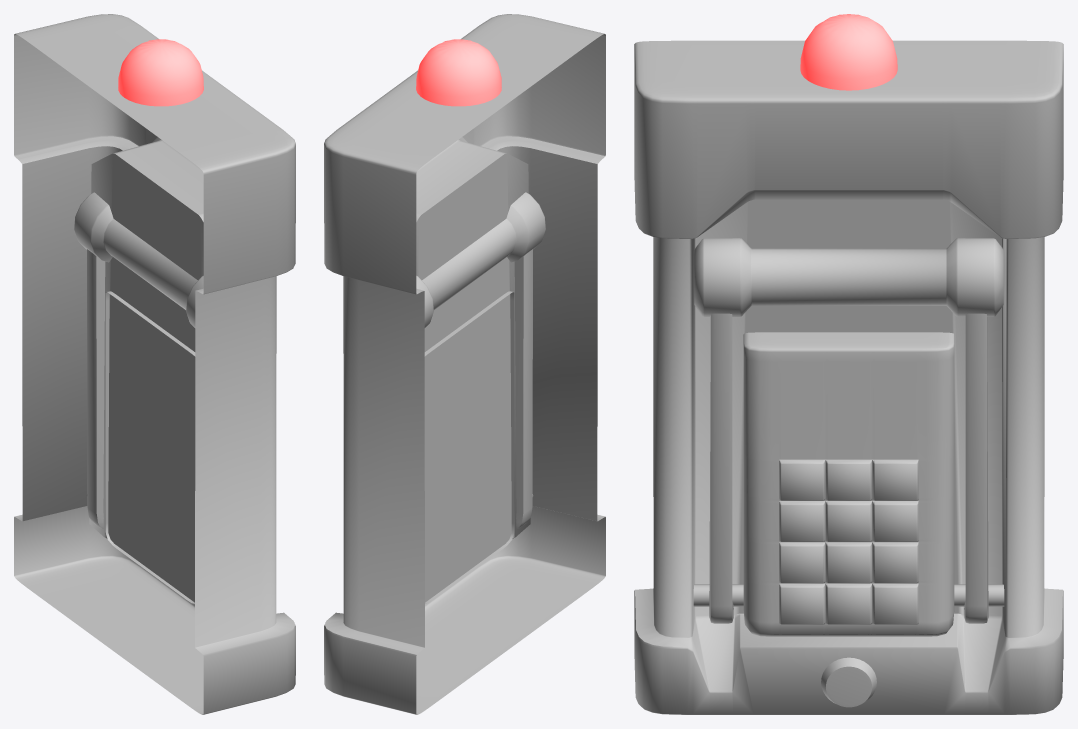
Rendered from EmergencyLever.fbx.
3 views of the same model, side by side, from view 1: azimuth 30°, elevation 25°; view 2: azimuth 150°, elevation 25°; view 3: azimuth 270°, elevation 25° (orthographic). The views are drawn at different scales.
Visible parts, largest first — view 1: EmergencyPanel, EmergencyPanelLever; view 2: EmergencyPanel, EmergencyPanelLever; view 3: EmergencyPanel, EmergencyPanelLever.
Part boxes in pixels (x1,y1,x2,y2): EmergencyPanel: [14, 14, 295, 714]; EmergencyPanelLever: [74, 192, 203, 528]; EmergencyPanel: [324, 14, 605, 714]; EmergencyPanelLever: [416, 192, 545, 528]; EmergencyPanel: [634, 14, 1063, 714]; EmergencyPanelLever: [693, 238, 1004, 623].
Bounding box in the file's own units: 7.58 × 37.82 × 22.
